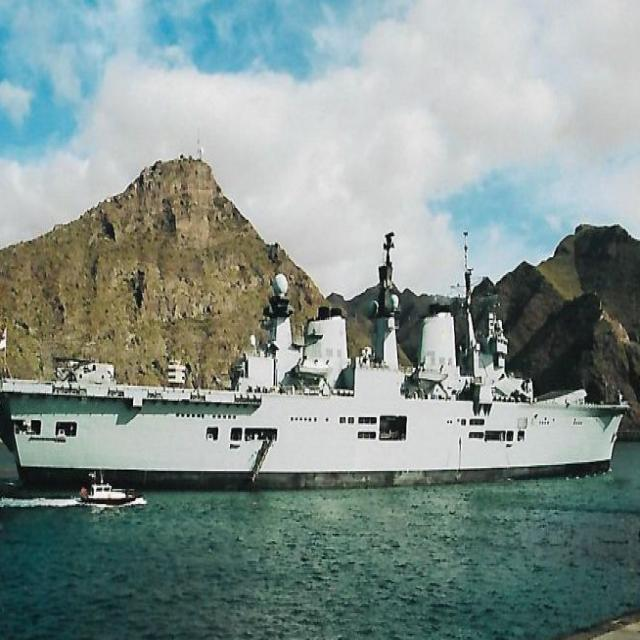Portanaves: (1, 209, 635, 505)
